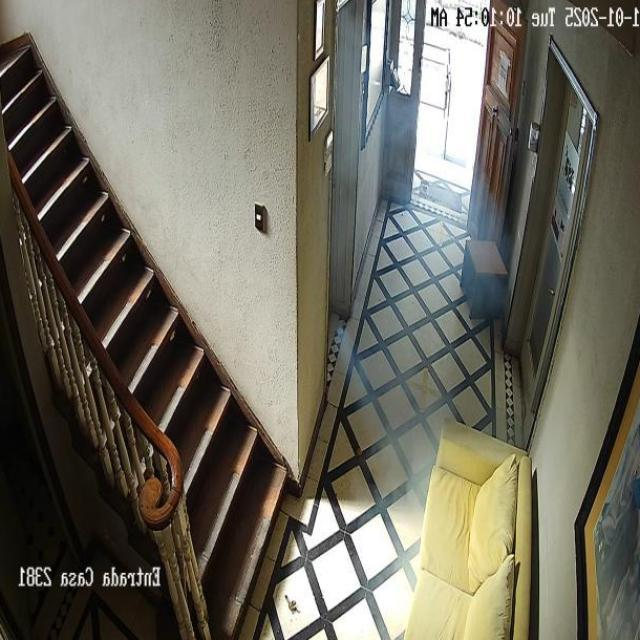fire: (332, 4, 515, 605)
